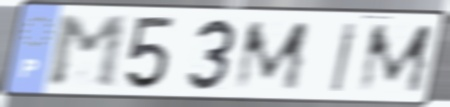3: (183, 17, 239, 93)
5: (120, 14, 181, 92)
I: (328, 20, 361, 94)
M: (46, 13, 130, 90), (354, 22, 437, 95), (231, 19, 313, 92)
